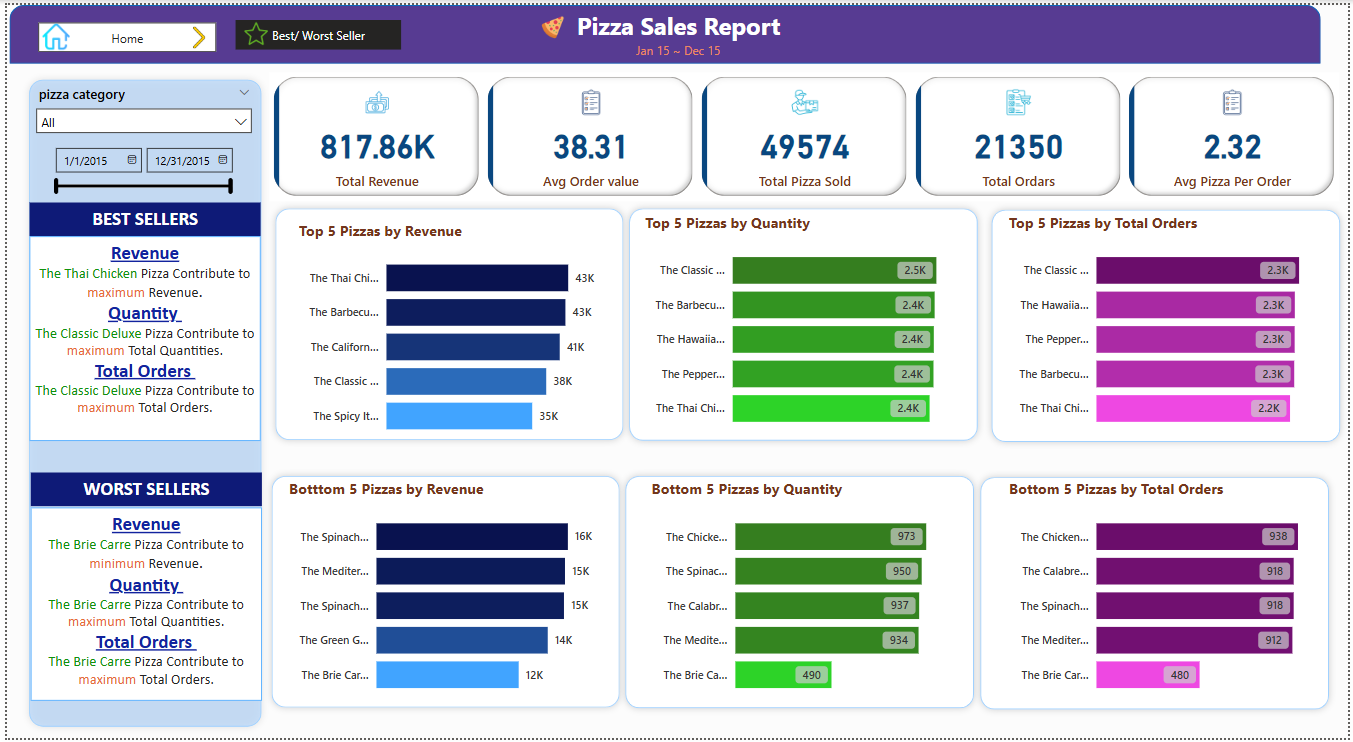

The page's visual inventory and layout, read from the dashboard file:
{"tool":"powerbi","page":{"name":"Best/ Worst Seller","canvas":[1500,820],"ordinal":1},"visuals":[{"type":"shape","box":[2.8,0,1465.9,65.7],"z":0},{"type":"pageNavigator","box":[255.7,16.8,185.9,33.5],"z":1000},{"type":"pageNavigator","box":[34.9,19.6,199.8,33.5],"z":2000},{"type":"shape","box":[16.4,75.7,275.7,739.3],"z":3000},{"type":"cardVisual","fields":{"Data":["Pizza_Sales.Total Revenue","Pizza_Sales.Avg Order value","Pizza_Sales.Total Pizza Sold","Pizza_Sales.Total Ordars","Pizza_Sales.Avg Pizza/Order"]},"box":[293.5,75.5,1196.2,143.9],"z":4000},{"type":"textbox","box":[690,35.7,120,30],"z":5000},{"type":"textbox","box":[610,0,280,48.6],"z":6000},{"type":"image","box":[592.9,4.3,35.7,41.4],"z":7000},{"type":"shape","box":[292,220,405,275],"z":8000},{"type":"textbox","box":[25,220.7,258.6,37.9],"z":9000},{"type":"textbox","box":[25.7,258.6,258.6,228.6],"z":10000},{"type":"shape","box":[1092.9,221.4,405.7,275.7],"z":11000},{"type":"shape","box":[687.1,220,405.7,275.7],"z":12000},{"type":"shape","box":[288.2,518.7,405,275],"z":13000},{"type":"shape","box":[1080.5,520.1,405.7,275.7],"z":14000},{"type":"shape","box":[683.3,518.7,405.7,275.7],"z":15000},{"type":"barChart","title":"Top 5 Pizzas by Quantity","fields":{"Category":["Pizza_Menu.pizza_name"],"Y":["Pizza_Sales.Total Pizza Sold"]},"box":[708.6,231.4,360,255.7],"z":16000},{"type":"barChart","title":"Botttom 5 Pizzas by Revenue","fields":{"Category":["Pizza_Menu.pizza_name"],"Y":["Pizza_Sales.Total Revenue"]},"box":[310,530,361.4,255.7],"z":17000},{"type":"barChart","title":"Top 5 Pizzas by Revenue","fields":{"Category":["Pizza_Menu.pizza_name"],"Y":["Pizza_Sales.Total Revenue"]},"box":[321.4,240,361.4,255.7],"z":18000},{"type":"barChart","title":"Bottom 5 Pizzas by Quantity","fields":{"Category":["Pizza_Menu.pizza_name"],"Y":["Pizza_Sales.Total Pizza Sold"]},"box":[715.7,530,342.9,255.7],"z":19000},{"type":"barChart","title":"Top 5 Pizzas by Total Orders","fields":{"Category":["Pizza_Menu.pizza_name"],"Y":["Pizza_Sales.Total Ordars"]},"box":[1115.7,231.4,360,255.7],"z":20000},{"type":"barChart","title":"Bottom 5 Pizzas by Total Orders","fields":{"Category":["Pizza_Menu.pizza_name"],"Y":["Pizza_Sales.Total Ordars"]},"box":[1115.7,530,360,255.7],"z":21000},{"type":"textbox","box":[25.9,523.3,258.6,37.9],"z":22000},{"type":"textbox","box":[26.6,561.1,258.6,215.7],"z":23000},{"type":"slicer","fields":{"Values":["Pizza_Menu.pizza_category"]},"box":[22.4,83.8,261.3,65.7],"z":24000},{"type":"slicer","fields":{"Values":["Date.Date"]},"box":[41.9,149.5,223.6,65.7],"z":25000},{"type":"image","box":[195.6,19.6,39.1,33.5],"z":26000},{"type":"image","box":[34.9,15.4,40.5,40.5],"z":27000},{"type":"image","box":[255.7,14,46.1,36.3],"z":28000}]}

Visuals, with their boxes in screenshot pixels (x1, y1, x2, y2), scaled from the page's 1500x820 canvas onto the 1353x742 screenshot:
shape: x1=3 y1=0 x2=1325 y2=59
pageNavigator: x1=231 y1=15 x2=398 y2=46
pageNavigator: x1=31 y1=18 x2=212 y2=48
shape: x1=15 y1=68 x2=263 y2=737
cardVisual - Pizza_Sales.Total Revenue x Pizza_Sales.Avg Order value: x1=265 y1=68 x2=1344 y2=199
textbox: x1=622 y1=32 x2=731 y2=59
textbox: x1=550 y1=0 x2=803 y2=44
image: x1=535 y1=4 x2=567 y2=41
shape: x1=263 y1=199 x2=629 y2=448
textbox: x1=23 y1=200 x2=256 y2=234
textbox: x1=23 y1=234 x2=256 y2=441
shape: x1=986 y1=200 x2=1352 y2=450
shape: x1=620 y1=199 x2=986 y2=449
shape: x1=260 y1=469 x2=625 y2=718
shape: x1=975 y1=471 x2=1341 y2=720
shape: x1=616 y1=469 x2=982 y2=719
"Top 5 Pizzas by Quantity" barChart: x1=639 y1=209 x2=964 y2=441
"Botttom 5 Pizzas by Revenue" barChart: x1=280 y1=480 x2=606 y2=711
"Top 5 Pizzas by Revenue" barChart: x1=290 y1=217 x2=616 y2=449
"Bottom 5 Pizzas by Quantity" barChart: x1=646 y1=480 x2=955 y2=711
"Top 5 Pizzas by Total Orders" barChart: x1=1006 y1=209 x2=1331 y2=441
"Bottom 5 Pizzas by Total Orders" barChart: x1=1006 y1=480 x2=1331 y2=711
textbox: x1=23 y1=474 x2=257 y2=508
textbox: x1=24 y1=508 x2=257 y2=703
slicer - Pizza_Menu.pizza_category: x1=20 y1=76 x2=256 y2=135
slicer - Date.Date: x1=38 y1=135 x2=239 y2=195
image: x1=176 y1=18 x2=212 y2=48
image: x1=31 y1=14 x2=68 y2=51
image: x1=231 y1=13 x2=272 y2=46
